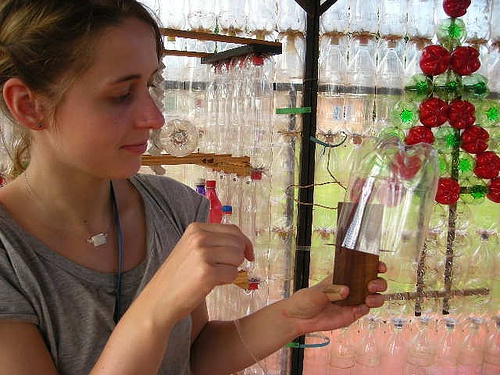head: (1, 1, 166, 183)
person: (1, 1, 388, 375)
